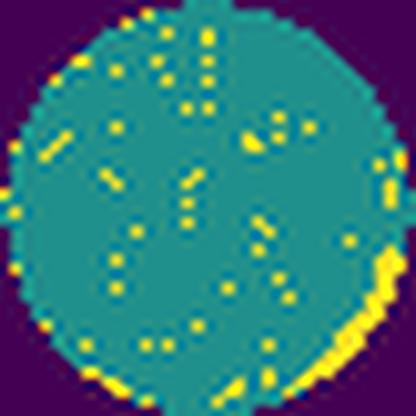Edge-Loc: (276, 238, 415, 398)
